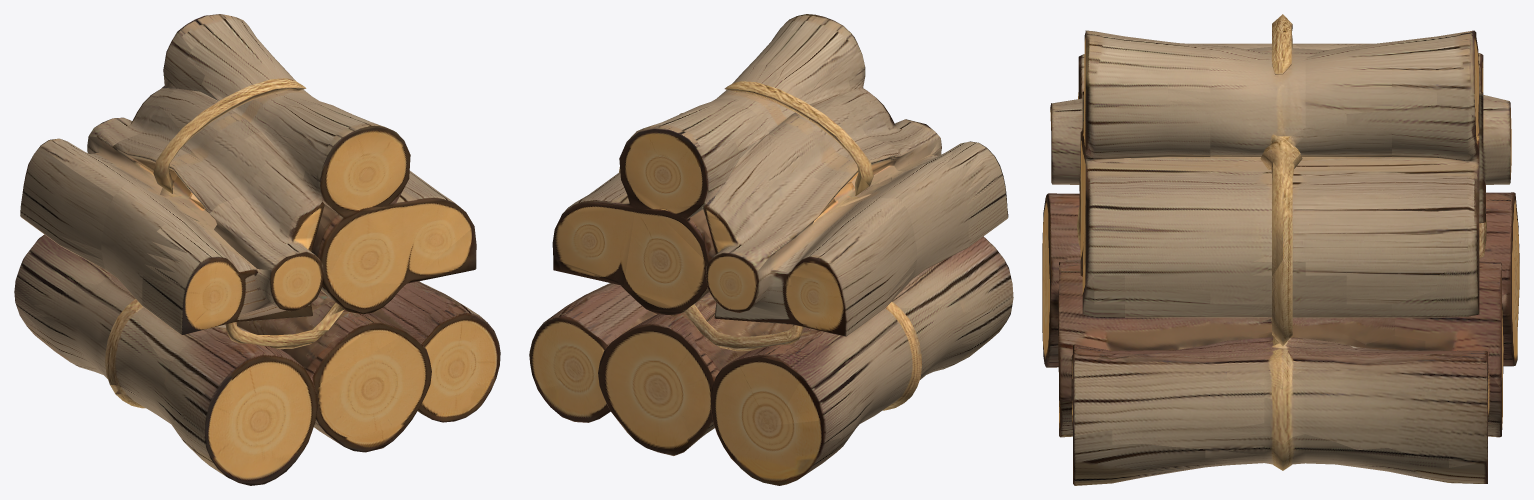
The model's file is wood.glb.
The picture shows the model from 3 angles, left to right: view 1: azimuth 30°, elevation 25°; view 2: azimuth 150°, elevation 25°; view 3: azimuth 270°, elevation 25°; orthographic projection. The views are drawn at different scales.
Size of the model in its own units: 1.83 by 1.81 by 1.9.
Materials: 1 (1 with a texture image).
